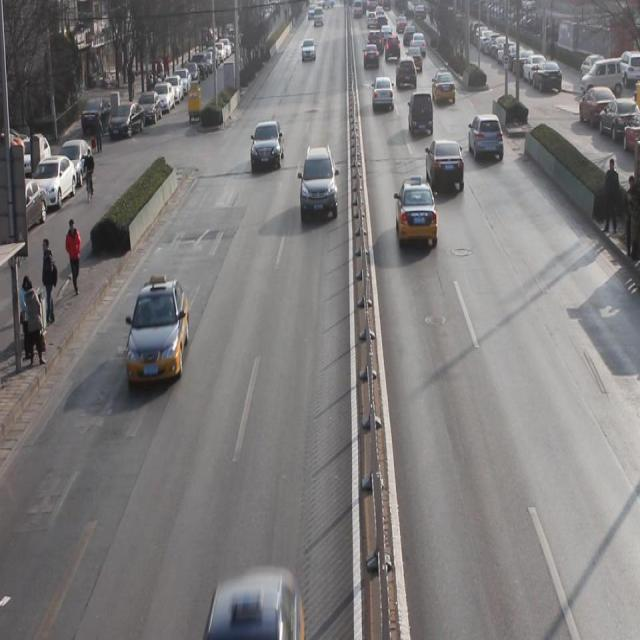car: (127, 281, 189, 384), (395, 174, 437, 250), (298, 145, 339, 220), (426, 140, 464, 193), (250, 120, 285, 170), (469, 113, 504, 161), (432, 67, 457, 105), (396, 54, 419, 92), (372, 73, 394, 108)
truck: (409, 88, 436, 137)
